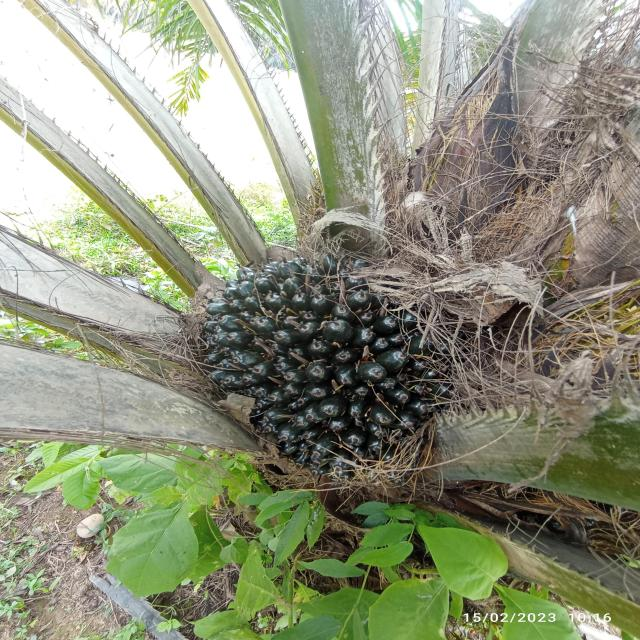fraksi 00: (152, 190, 504, 510)
